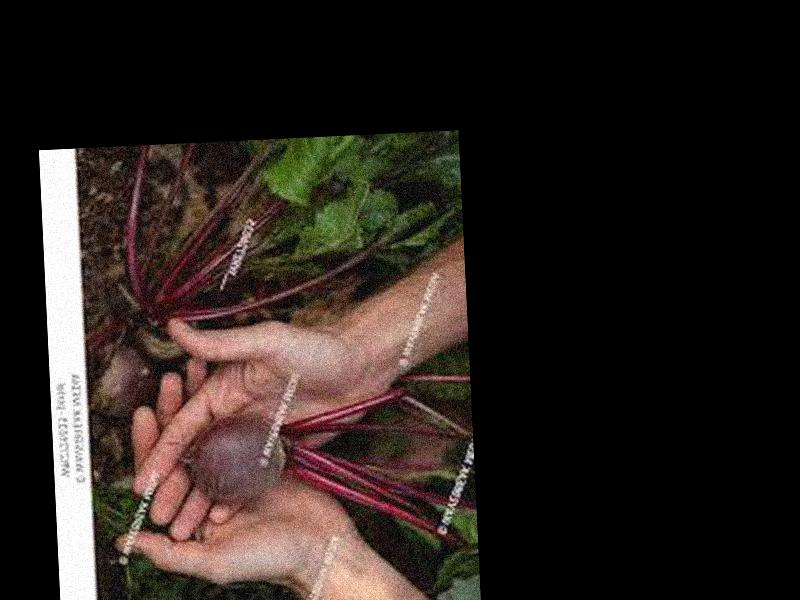Beet: (177, 383, 469, 565)
